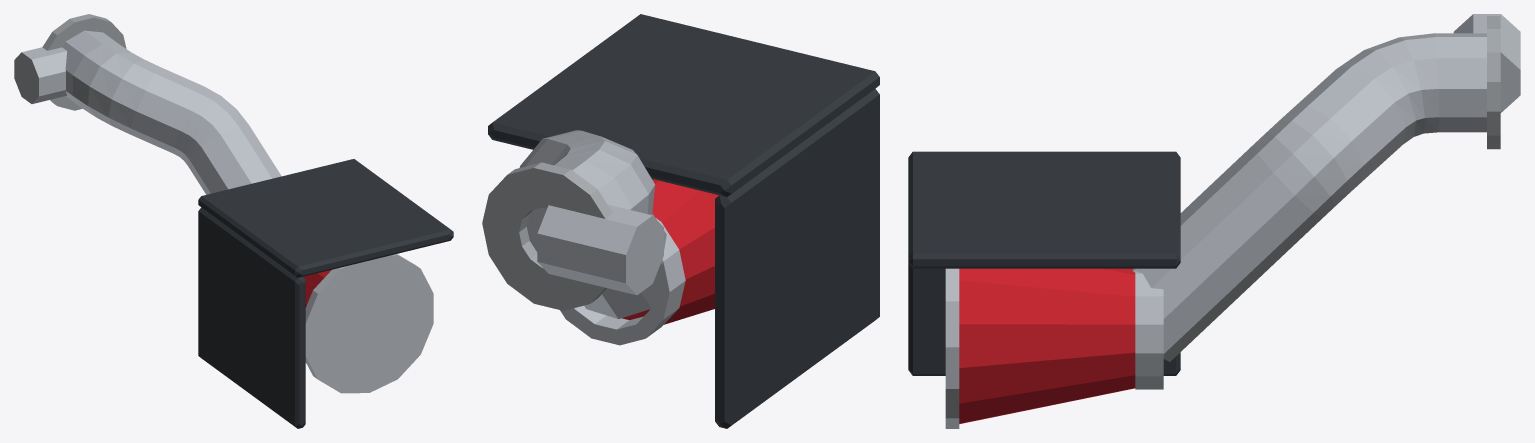
The model's file is hana_roadster.glb.
3 views of the same model, side by side, from view 1: azimuth 30°, elevation 25°; view 2: azimuth 150°, elevation 25°; view 3: azimuth 270°, elevation 25° (orthographic). The views are drawn at different scales.
Visible parts, largest first — view 1: model; view 2: model; view 3: model.
Part boxes in pixels (box(x1,y1,x2,y2)): model: box(14, 14, 453, 428); model: box(482, 14, 879, 428); model: box(908, 14, 1520, 428).
Bounding box in the file's own units: 0.3 × 0.3386 × 0.5396.
2 materials, 1 textured.
